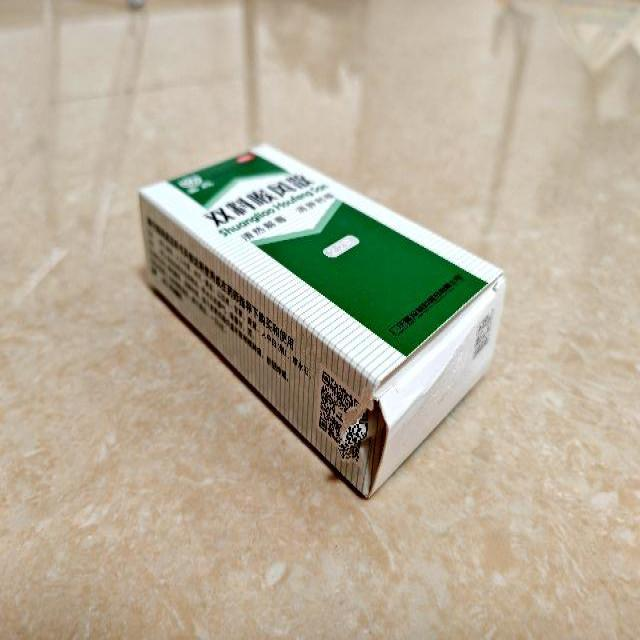box: (138, 140, 504, 500)
